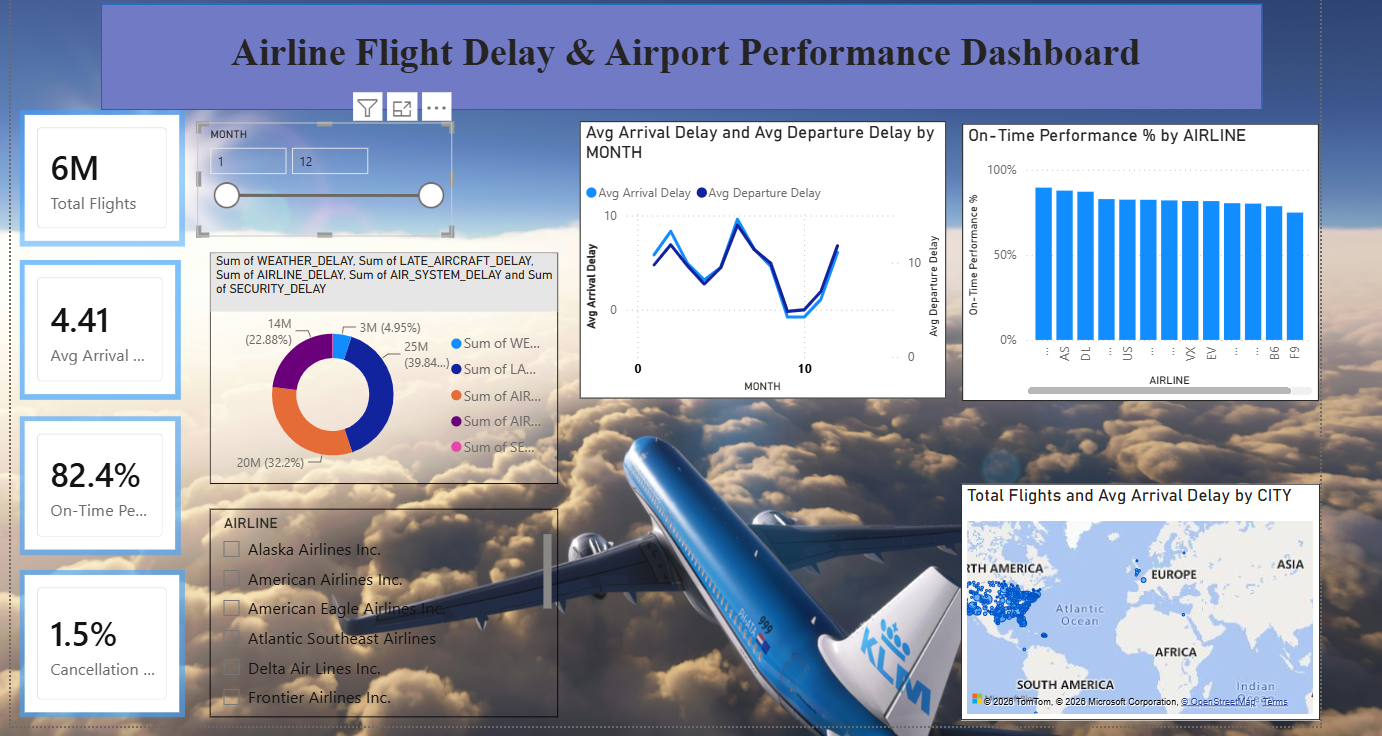

This screenshot's page, from the dashboard's own definition file:
{"tool":"powerbi","page":{"name":"Page 1","canvas":[1280,720],"ordinal":0},"visuals":[{"type":"cardVisual","fields":{"Data":["flights.Total Flights"]},"box":[8.6,117.4,161.4,133.3],"z":0},{"type":"cardVisual","fields":{"Data":["flights.On-Time Performance %"]},"box":[8.6,417,157.7,135.7],"z":1000},{"type":"cardVisual","fields":{"Data":["flights.Avg Arrival Delay"]},"box":[8.6,264.1,157.7,137],"z":2000},{"type":"cardVisual","fields":{"Data":["flights.Cancellation Rate %"]},"box":[8.6,567.4,161.4,144.3],"z":3000},{"type":"columnChart","fields":{"Category":["flights.AIRLINE"],"Y":["flights.On-Time Performance %"]},"box":[930.4,130.4,348.5,271.5],"z":4000},{"type":"map","fields":{"Category":["airports.CITY"],"Size":["flights.Total Flights"]},"box":[929.1,483.5,351,231.1],"z":5000},{"type":"shape","box":[88,13.5,1136,103.9],"z":6000},{"type":"textbox","box":[210.3,34.2,968.5,72.1],"z":7000},{"type":"slicer","fields":{"Values":["airlines.AIRLINE"]},"box":[194.9,507.6,340.5,203.8],"z":8000},{"type":"slicer","fields":{"Values":["flights.MONTH"]},"box":[182.2,129.6,249.5,111.3],"z":9000},{"type":"lineChart","fields":{"Y":["flights.Avg Arrival Delay"],"Y2":["flights.Avg Departure Delay"],"Category":["flights.MONTH"]},"box":[557,127.8,358.3,271.5],"z":10000},{"type":"donutChart","fields":{"Y":["Sum(flights.WEATHER_DELAY)","Sum(flights.LATE_AIRCRAFT_DELAY)","Sum(flights.AIRLINE_DELAY)","Sum(flights.AIR_SYSTEM_DELAY)","Sum(flights.SECURITY_DELAY)"]},"box":[194.9,257,340.5,226.6],"z":11000}]}

Visuals, with their boxes on the page's 1280x720 design canvas (x1, y1, x2, y2). These are canvas units, not pixel positions in the 1382x736 screenshot, which may show the page scaled, cropped or inside an application window:
cardVisual - flights.Total Flights: locate(9, 117, 170, 251)
cardVisual - flights.On-Time Performance %: locate(9, 417, 166, 553)
cardVisual - flights.Avg Arrival Delay: locate(9, 264, 166, 401)
cardVisual - flights.Cancellation Rate %: locate(9, 567, 170, 712)
columnChart - flights.AIRLINE x flights.On-Time Performance %: locate(930, 130, 1279, 402)
map - airports.CITY x flights.Total Flights: locate(929, 484, 1280, 715)
shape: locate(88, 14, 1224, 117)
textbox: locate(210, 34, 1179, 106)
slicer - airlines.AIRLINE: locate(195, 508, 535, 711)
slicer - flights.MONTH: locate(182, 130, 432, 241)
lineChart - flights.Avg Arrival Delay x flights.Avg Departure Delay: locate(557, 128, 915, 399)
donutChart - Sum(flights.WEATHER_DELAY) x Sum(flights.LATE_AIRCRAFT_DELAY): locate(195, 257, 535, 484)
